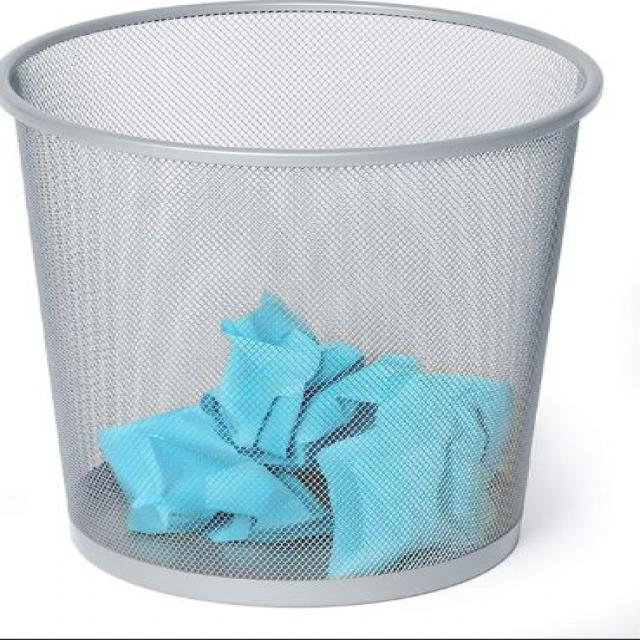metal: (12, 33, 572, 589)
paper: (61, 282, 515, 555)
